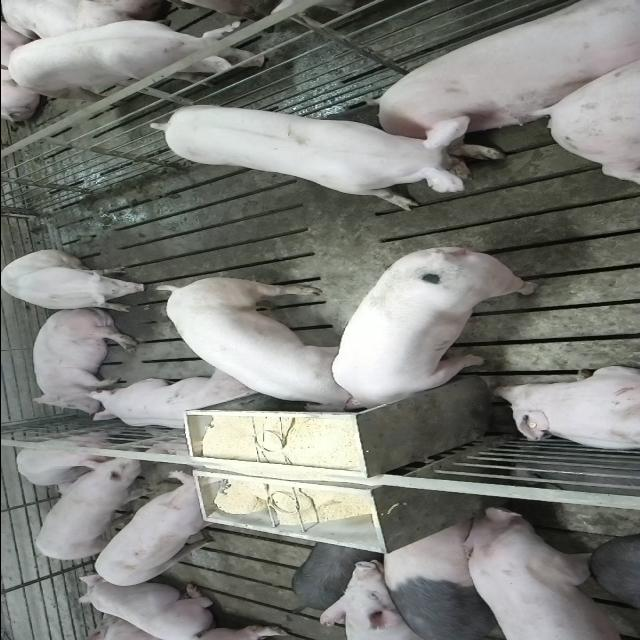Feeding: (330, 250, 540, 420), (158, 274, 360, 410)
Lateral_lying: (27, 306, 141, 416)
Sitting: (0, 250, 147, 312)
Standing: (146, 104, 486, 210), (6, 14, 276, 104), (462, 504, 640, 638), (379, 515, 513, 638), (92, 472, 230, 588), (30, 450, 156, 560), (13, 428, 133, 485)
Sternal_lying: (491, 365, 640, 453), (86, 372, 262, 433), (72, 576, 216, 637)
